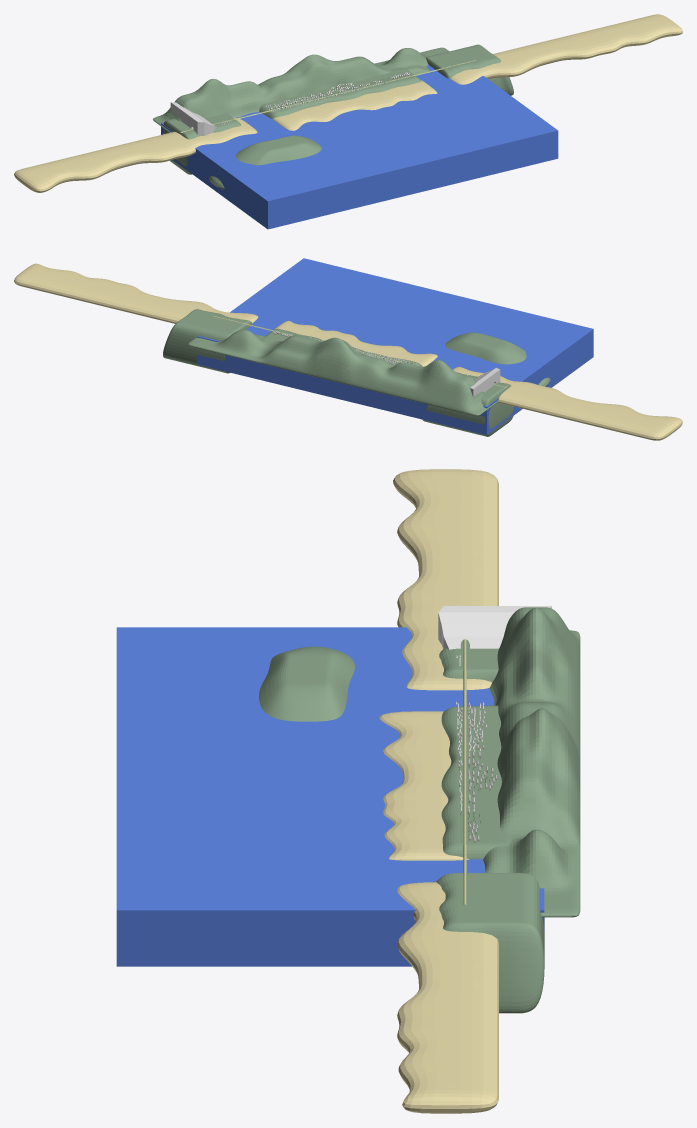
The picture shows the model from 3 angles, top to bottom: view 1: azimuth 30°, elevation 25°; view 2: azimuth 150°, elevation 25°; view 3: azimuth 270°, elevation 25°; orthographic projection. The views are drawn at different scales.
Parts seen in each view (by area): view 1: 立方体.008, 立方体.021, 立方体.143, 立方体.141, 立方体.005, 立方体.009, 立方体.010, 立方体.142, 立方体.007, 立方体.062, 立方体.038; view 2: 立方体.008, 立方体.021, 立方体.143, 立方体.141, 立方体.142, 立方体.010, 立方体.009, 立方体.007, 立方体.005, 立方体.062; view 3: 立方体.008, 立方体.021, 立方体.143, 立方体.141, 立方体.142, 立方体.009, 立方体.005, 立方体.010, 立方体.062, 立方体.007, 立方体.038.
Part boxes in pixels (x1=…): 立方体.008: x1=161, y1=65, x2=558, y2=229; 立方体.021: x1=153, y1=47, x2=449, y2=132; 立方体.143: x1=450, y1=14, x2=682, y2=84; 立方体.141: x1=14, y1=117, x2=257, y2=192; 立方体.005: x1=259, y1=68, x2=421, y2=118; 立方体.009: x1=273, y1=80, x2=437, y2=130; 立方体.010: x1=209, y1=135, x2=321, y2=189; 立方体.142: x1=425, y1=44, x2=513, y2=95; 立方体.007: x1=163, y1=113, x2=240, y2=174; 立方体.062: x1=170, y1=102, x2=216, y2=135; 立方体.038: x1=180, y1=60, x2=475, y2=132; 立方体.008: x1=197, y1=258, x2=593, y2=435; 立方体.021: x1=188, y1=330, x2=498, y2=415; 立方体.143: x1=14, y1=263, x2=258, y2=323; 立方体.141: x1=453, y1=367, x2=682, y2=440; 立方体.142: x1=163, y1=309, x2=252, y2=373; 立方体.010: x1=445, y1=332, x2=550, y2=386; 立方体.009: x1=274, y1=320, x2=437, y2=366; 立方体.007: x1=423, y1=372, x2=513, y2=436; 立方体.005: x1=263, y1=328, x2=422, y2=366; 立方体.062: x1=470, y1=368, x2=500, y2=397; 立方体.008: x1=116, y1=627, x2=544, y2=966; 立方体.021: x1=483, y1=607, x2=580, y2=917; 立方体.143: x1=397, y1=882, x2=498, y2=1113; 立方体.141: x1=393, y1=469, x2=498, y2=690; 立方体.142: x1=436, y1=873, x2=544, y2=1013; 立方体.009: x1=379, y1=711, x2=469, y2=860; 立方体.005: x1=441, y1=705, x2=512, y2=859; 立方体.010: x1=259, y1=646, x2=354, y2=721; 立方体.062: x1=438, y1=606, x2=551, y2=649; 立方体.007: x1=439, y1=639, x2=498, y2=681; 立方体.038: x1=463, y1=639, x2=466, y2=904.
Bounding box in the file's own units: 1438 × 142 × 444.
Materials: 155 (111 with a texture image).
